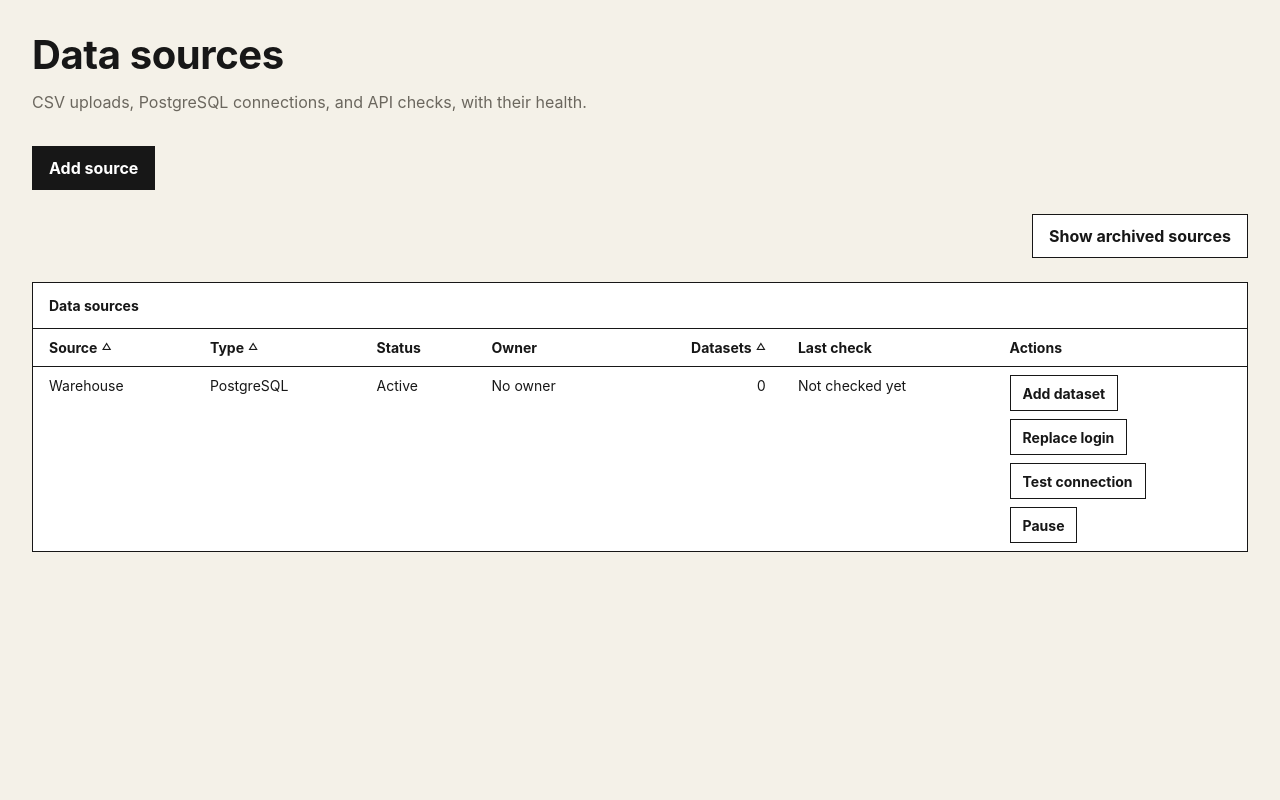
Test: Add a PostgreSQL source › replaces a database login without prefilling or keeping it
Click the button with aria-label "Replace the login for Warehouse" at (1068, 437), box [1010,419,1127,455]
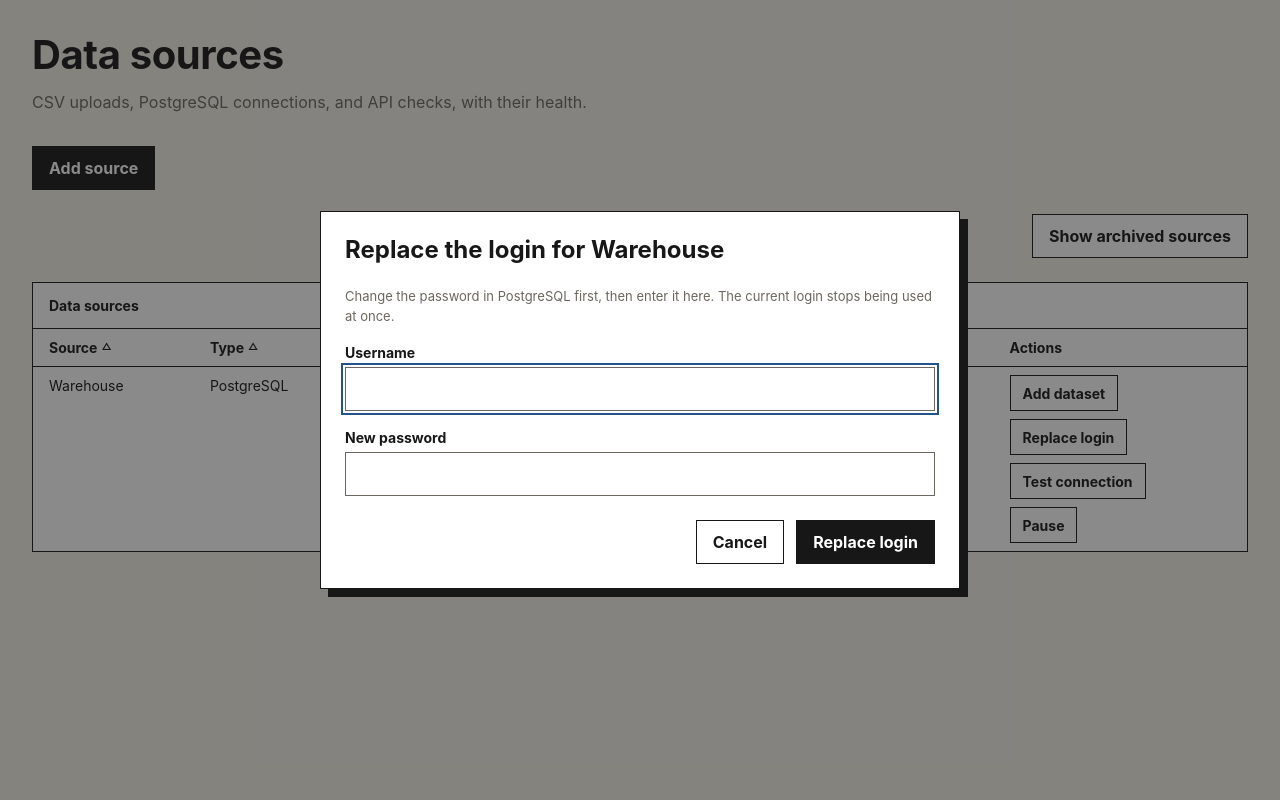
Result: the field labelled "Username" is empty
Type "reader2" into the field labelled "Username" at (640, 389), box [345,367,935,411]
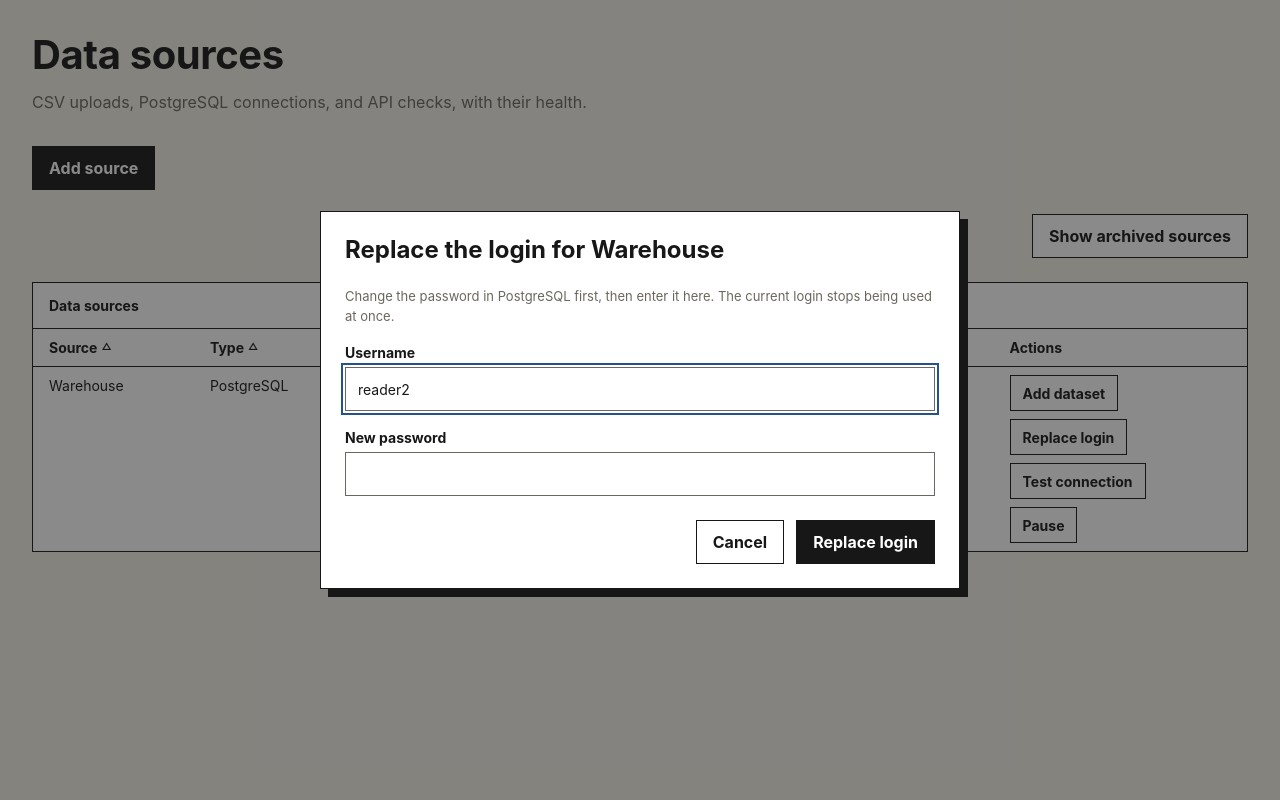
Type "N3w" into the password field labelled "New password" at (640, 474), box [345,452,935,496]
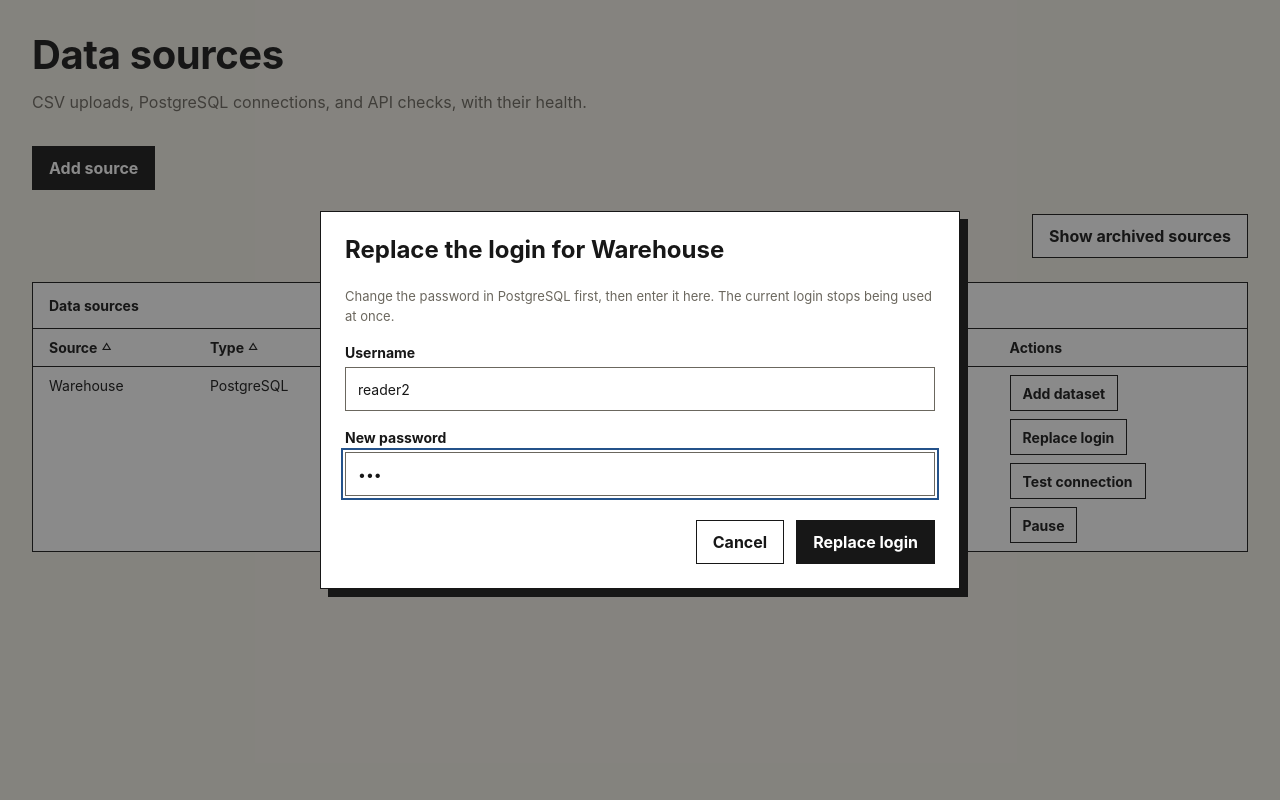
Click the button "Replace login" at (866, 542), box [796,520,935,564]
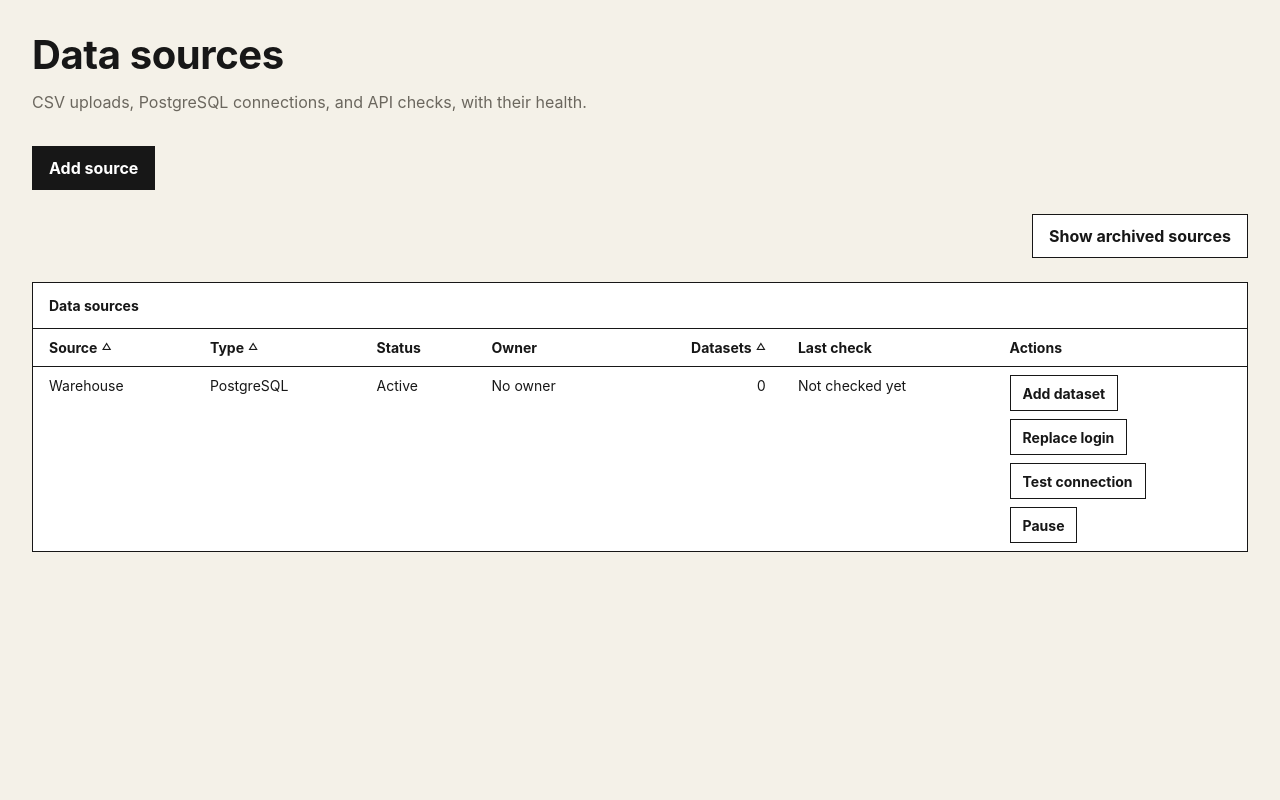
Result: the dialog is gone
